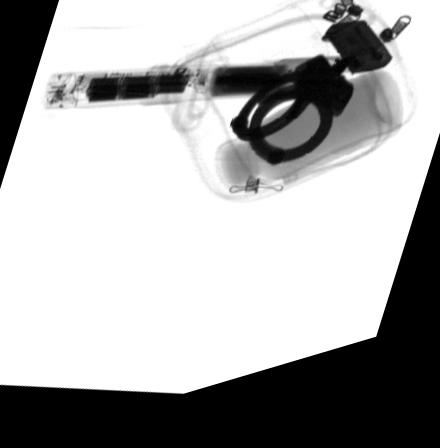Baton: (42, 78, 332, 114)
HandCuffs: (230, 72, 355, 183)
Lighter: (324, 42, 393, 95)
